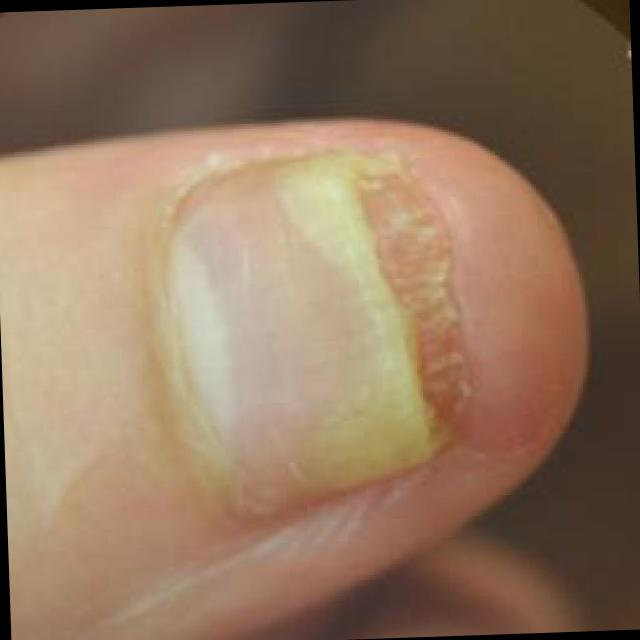Nail: (168, 147, 485, 515)
